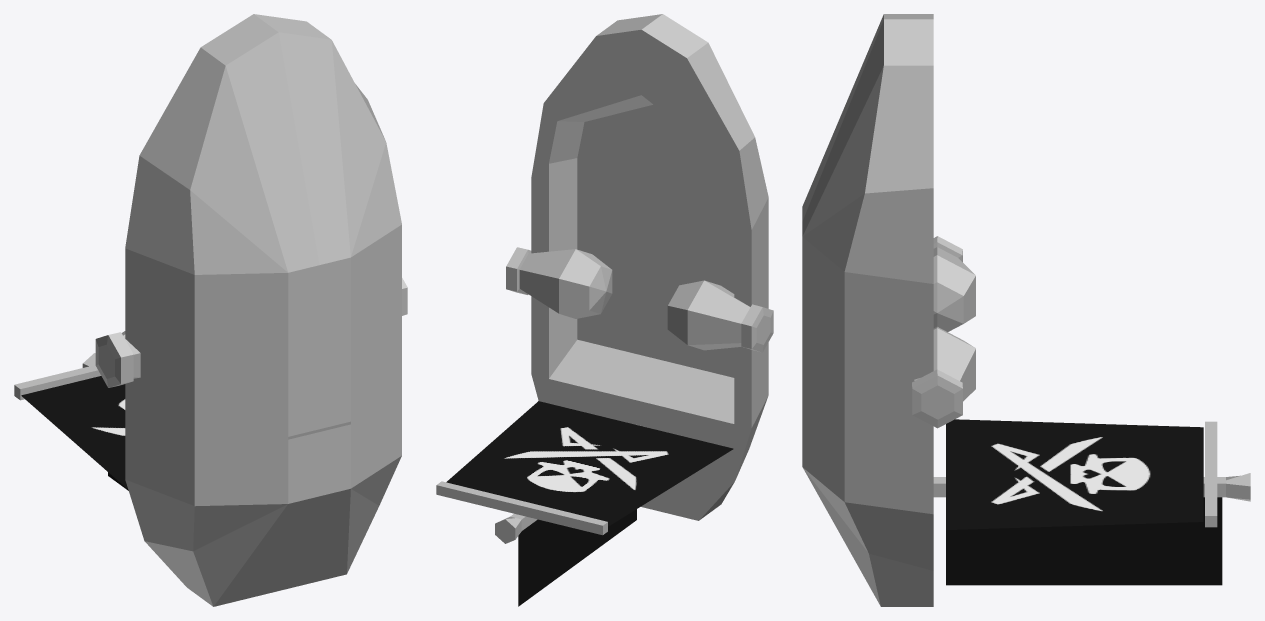
Rendered from pirate_basic_my_0.fbx.
3 views of the same model, side by side, from view 1: azimuth 30°, elevation 25°; view 2: azimuth 150°, elevation 25°; view 3: azimuth 270°, elevation 25° (orthographic). The views are drawn at different scales.
Visible parts, largest first — view 1: Circle.025; view 2: Circle.025; view 3: Circle.025.
Boxes of the visible parts, x1,y1,x2,y2 form: Circle.025: (14,14,407,606); Circle.025: (436,14,773,606); Circle.025: (802,14,1250,606).
Bounding box in the file's own units: 225 × 422 × 303.
